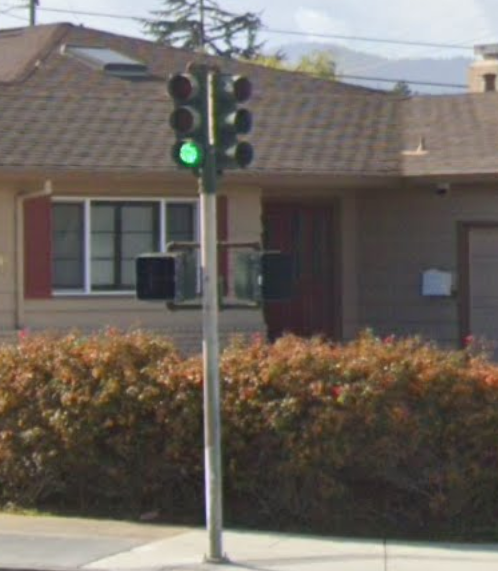green_light: (169, 77, 207, 174)
